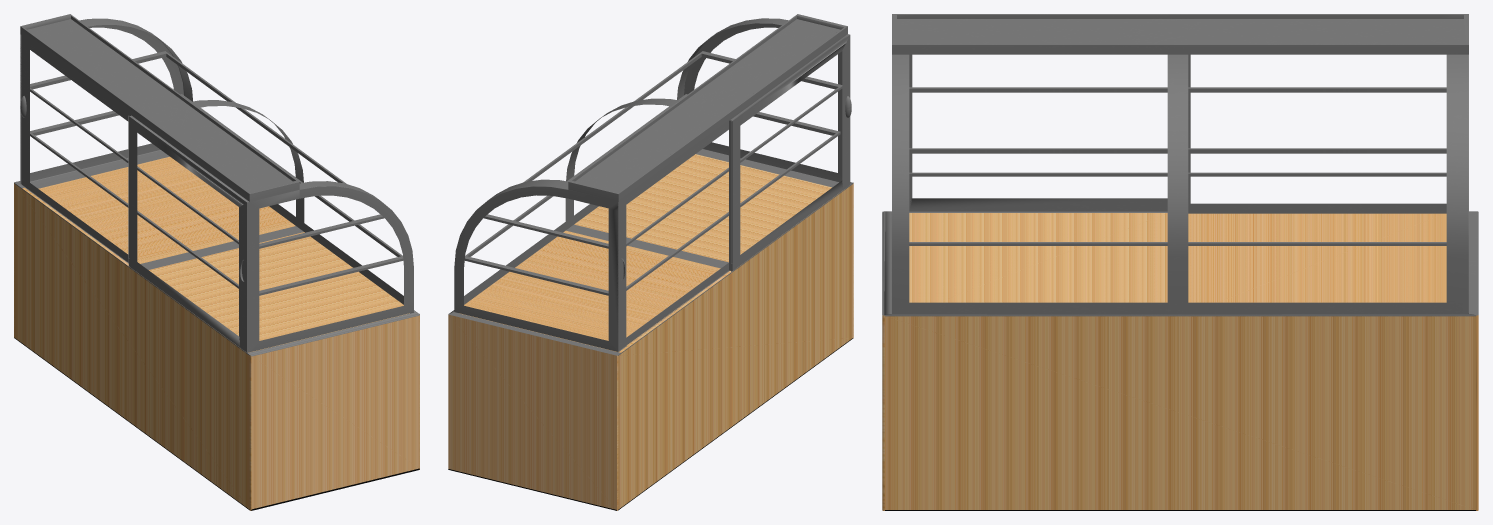
The model's file is VitrinaTres.obj.
3 views of the same model, side by side, from view 1: azimuth 30°, elevation 25°; view 2: azimuth 150°, elevation 25°; view 3: azimuth 270°, elevation 25° (orthographic). The views are drawn at different scales.
Visible parts, largest first — view 1: Vitrina:polySurface3 Vitrina:VitrinaDos1:polySurface215; view 2: Vitrina:polySurface3 Vitrina:VitrinaDos1:polySurface215; view 3: Vitrina:polySurface3 Vitrina:VitrinaDos1:polySurface215.
Part boxes in pixels (x1,y1,x2,y2): Vitrina:polySurface3 Vitrina:VitrinaDos1:polySurface215: (14, 14, 419, 510); Vitrina:polySurface3 Vitrina:VitrinaDos1:polySurface215: (448, 14, 853, 510); Vitrina:polySurface3 Vitrina:VitrinaDos1:polySurface215: (882, 14, 1478, 510).
Size of the model in its own units: 1.26 by 2.17 by 2.97.
Materials: 6 (4 with a texture image).
